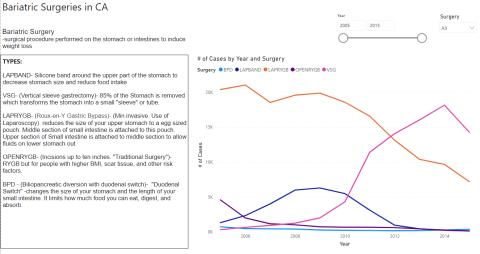

This screenshot's page, from the dashboard's own definition file:
{"tool":"powerbi","page":{"name":"Surgery Type and Count","canvas":[1280,720],"ordinal":1},"visuals":[{"type":"textbox","box":[0,151.7,500.9,517.4],"z":0},{"type":"lineChart","fields":{"Category":["number-of-weight-loss-surgeries-performed-in-california-hospitals-.Year","number-of-weight-loss-surgeries-performed-in-california-hospitals-.Surgery"],"Y":["Sum(number-of-weight-loss-surgeries-performed-in-california-hospitals-.# of Cases)"],"Series":["number-of-weight-loss-surgeries-performed-in-california-hospitals-.Surgery"]},"box":[519.4,151.7,748,517.4],"z":1000},{"type":"textbox","box":[0,74.8,500.5,77.2],"z":2000},{"type":"slicer","fields":{"Values":["number-of-weight-loss-surgeries-performed-in-california-hospitals-.Surgery"]},"box":[1159,36.2,120.6,61.5],"z":3000},{"type":"slicer","fields":{"Values":["number-of-weight-loss-surgeries-performed-in-california-hospitals-.Year"]},"box":[885.2,36.2,259.3,98.9],"z":4000},{"type":"textbox","box":[0,0,314.8,72.4],"z":4001}]}

Visuals, with their boxes on the page's 1280x720 design canvas (x1, y1, x2, y2). These are canvas units, not pixel positions in the 480x254 screenshot, which may show the page scaled, cropped or inside an application window:
textbox: crop(0, 152, 501, 669)
lineChart - number-of-weight-loss-surgeries-performed-in-california-hospitals-.Year x number-of-weight-loss-surgeries-performed-in-california-hospitals-.Surgery: crop(519, 152, 1267, 669)
textbox: crop(0, 75, 500, 152)
slicer - number-of-weight-loss-surgeries-performed-in-california-hospitals-.Surgery: crop(1159, 36, 1280, 98)
slicer - number-of-weight-loss-surgeries-performed-in-california-hospitals-.Year: crop(885, 36, 1144, 135)
textbox: crop(0, 0, 315, 72)
